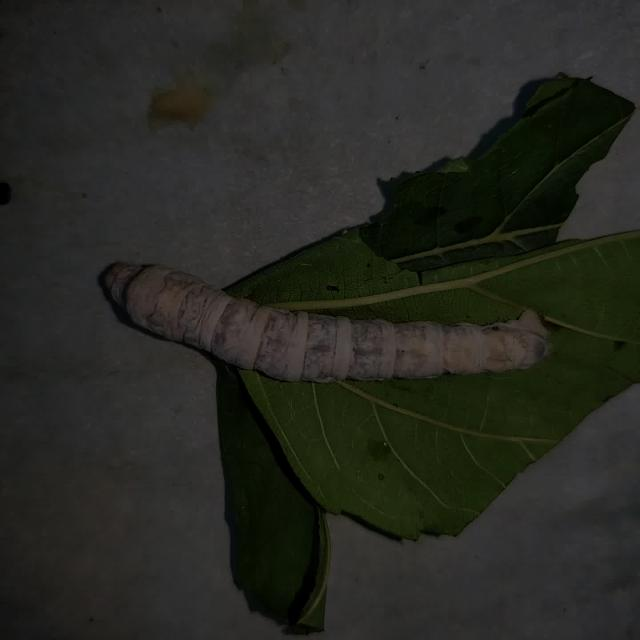Grasserie: (94, 233, 560, 400)
